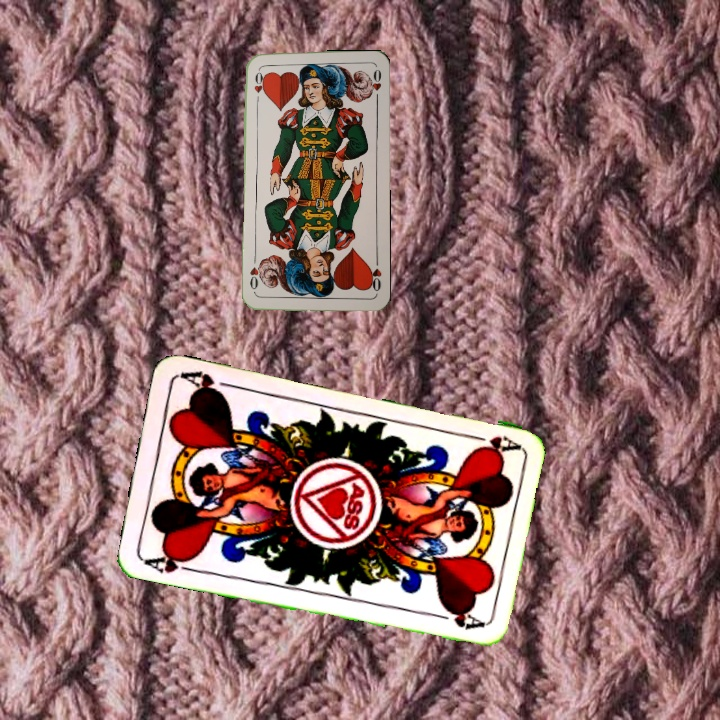HA: (139, 547, 198, 576), (461, 429, 520, 455)
HO: (366, 254, 384, 294), (250, 66, 264, 106)
